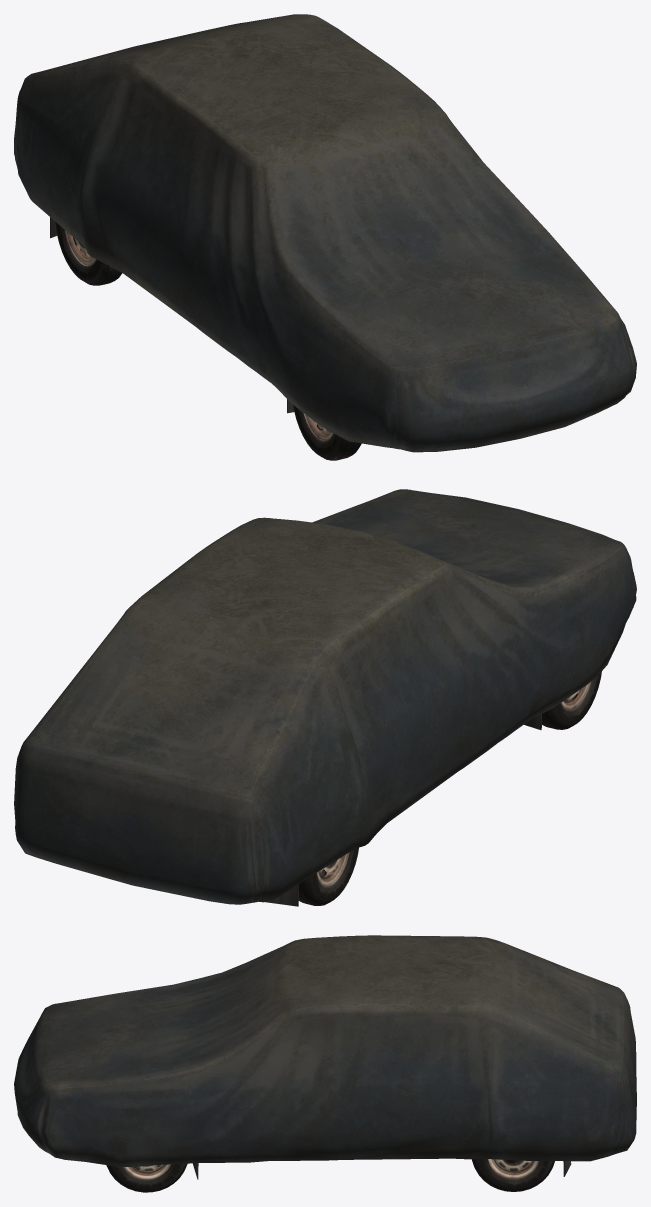
The model's file is covered_car_1k_md.glb.
The picture shows the model from 3 angles, top to bottom: view 1: azimuth 30°, elevation 25°; view 2: azimuth 150°, elevation 25°; view 3: azimuth 270°, elevation 25°; orthographic projection. The views are drawn at different scales.
Parts seen in each view (by area): view 1: covered_car, covered_car_wheel_03, covered_car_wheel_02; view 2: covered_car, covered_car_wheel_03, covered_car_wheel_02; view 3: covered_car, covered_car_wheel_04, covered_car_wheel_01.
Boxes of the visible parts, x1,y1,x2,y2 form: covered_car: (14, 14, 636, 452); covered_car_wheel_03: (55, 222, 122, 285); covered_car_wheel_02: (293, 405, 361, 460); covered_car: (14, 489, 636, 906); covered_car_wheel_03: (298, 847, 358, 905); covered_car_wheel_02: (542, 671, 601, 729); covered_car: (14, 935, 636, 1179); covered_car_wheel_04: (472, 1159, 554, 1191); covered_car_wheel_01: (106, 1163, 187, 1192).
Bounding box in the file's own units: 1.79 × 1.41 × 4.38.
Materials: 1 (1 with a texture image).
